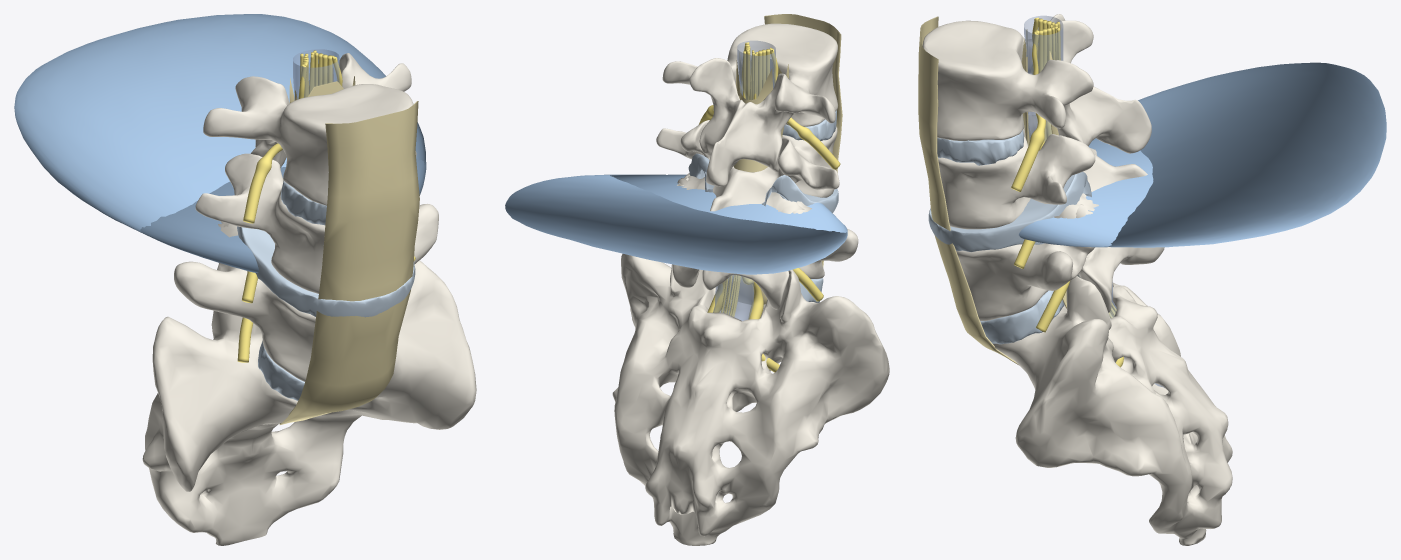
The picture shows the model from 3 angles, left to right: view 1: azimuth 30°, elevation 25°; view 2: azimuth 150°, elevation 25°; view 3: azimuth 270°, elevation 25°; orthographic projection. The views are drawn at different scales.
Visible parts, largest first — view 1: Nucleus_L4L5, Sacrum, ALL, L3, L5, L4, Disc_L4L5, Durasaek, Rod_L3_h, Disc_L5S1, Disc_L3L4, Rod_L5_h; view 2: Sacrum, Nucleus_L4L5, L3, L4, Durasaek, L5, Disc_L4L5, ALL, Rod_L3_h, Rod_S1_h, Flavum, Disc_L3L4 (+2 smaller); view 3: Nucleus_L4L5, Sacrum, L3, L4, L5, ALL, Disc_L4L5, Durasaek, Disc_L3L4, Disc_L5S1, Rod_L3_v, Rod_L5_v (+1 smaller).
Boxes of the visible parts, x1=… form: Nucleus_L4L5: x1=14, y1=14, x2=426, y2=272; Sacrum: x1=142, y1=260, x2=476, y2=545; ALL: x1=279, y1=101, x2=419, y2=424; L3: x1=203, y1=53, x2=413, y2=205; L5: x1=174, y1=204, x2=438, y2=381; L4: x1=195, y1=151, x2=416, y2=293; Disc_L4L5: x1=237, y1=226, x2=415, y2=317; Durasaek: x1=293, y1=49, x2=339, y2=100; Rod_L3_h: x1=243, y1=62, x2=307, y2=223; Disc_L5S1: x1=258, y1=341, x2=304, y2=400; Disc_L3L4: x1=280, y1=180, x2=326, y2=225; Rod_L5_h: x1=237, y1=59, x2=308, y2=362; Sacrum: x1=612, y1=254, x2=889, y2=545; Nucleus_L4L5: x1=505, y1=174, x2=847, y2=274; L3: x1=662, y1=23, x2=837, y2=186; L4: x1=656, y1=120, x2=839, y2=213; Durasaek: x1=713, y1=40, x2=775, y2=321; L5: x1=672, y1=173, x2=858, y2=309; Disc_L4L5: x1=688, y1=153, x2=838, y2=212; ALL: x1=764, y1=14, x2=842, y2=267; Rod_L3_h: x1=770, y1=47, x2=840, y2=169; Rod_S1_h: x1=742, y1=50, x2=779, y2=372; Flavum: x1=733, y1=60, x2=772, y2=172; Disc_L3L4: x1=782, y1=110, x2=836, y2=140; Nucleus_L4L5: x1=1019, y1=62, x2=1386, y2=247; Sacrum: x1=992, y1=275, x2=1232, y2=545; L3: x1=922, y1=14, x2=1151, y2=153; L4: x1=938, y1=115, x2=1147, y2=229; L5: x1=956, y1=204, x2=1164, y2=320; ALL: x1=918, y1=16, x2=1018, y2=364; Disc_L4L5: x1=928, y1=171, x2=1091, y2=252; Durasaek: x1=1024, y1=15, x2=1164, y2=388; Disc_L3L4: x1=937, y1=117, x2=1023, y2=165; Disc_L5S1: x1=980, y1=290, x2=1064, y2=344; Rod_L3_v: x1=1011, y1=30, x2=1045, y2=191; Rod_L5_v: x1=1036, y1=28, x2=1069, y2=332.
Bounding box in the file's own units: 0.1382 × 0.2064 × 0.1714.
